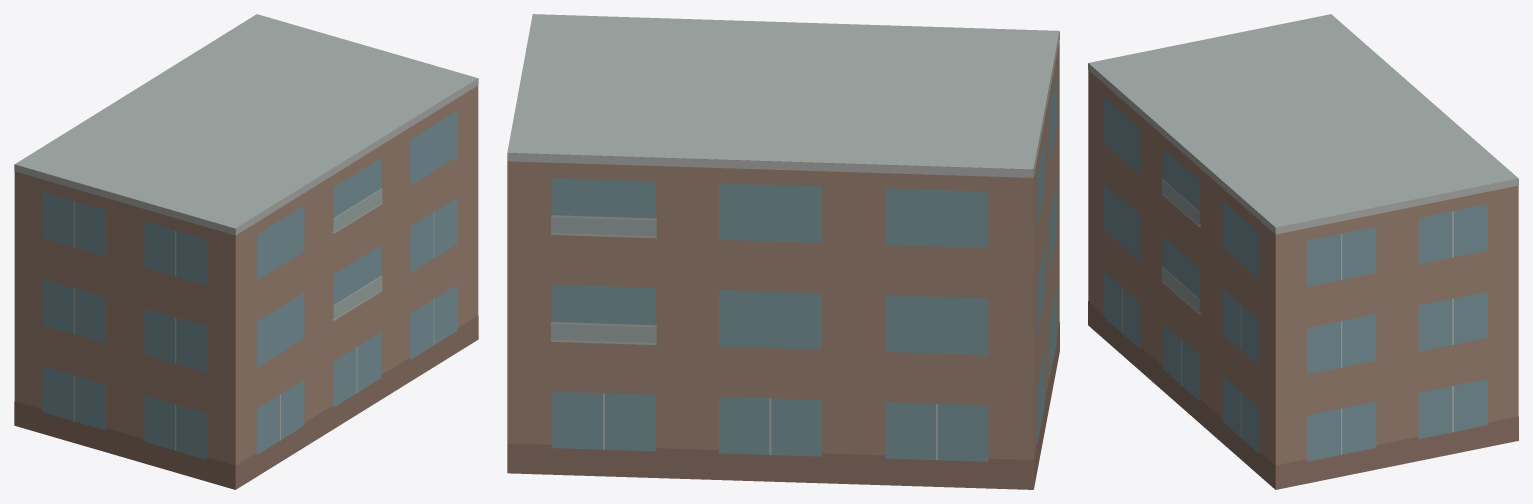
Rendered from survey-upis-33047105.glb.
3 renders of one model, left to right at view 1: azimuth 30°, elevation 25°; view 2: azimuth 150°, elevation 25°; view 3: azimuth 270°, elevation 25°, orthographic. The views are drawn at different scales.
Visible parts, largest first — view 1: survey-upis-33047105.tmp; view 2: survey-upis-33047105.tmp; view 3: survey-upis-33047105.tmp.
Part boxes in pixels (<box>): survey-upis-33047105.tmp: <box>14,14,478,489</box>; survey-upis-33047105.tmp: <box>507,14,1059,489</box>; survey-upis-33047105.tmp: <box>1088,14,1518,489</box>.
Bounding box in the file's own units: 15.99 × 9.15 × 13.63.
